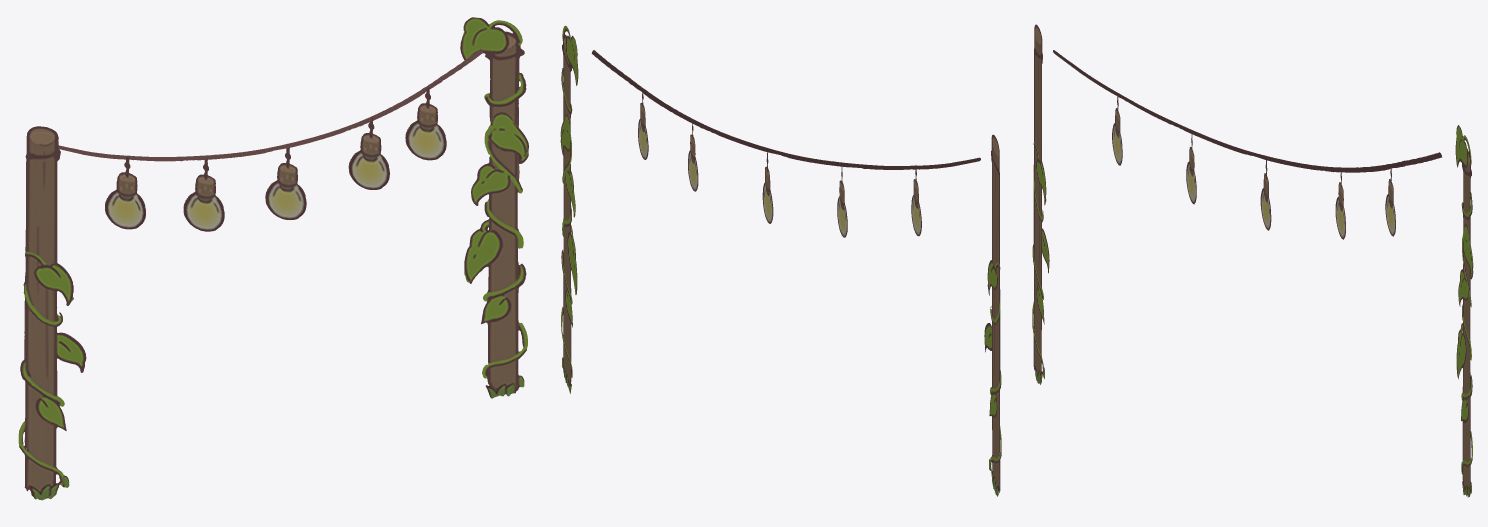
Rendered from Mesh_Home_B_Idyll_50.fbx.
3 views of the same model, side by side, from view 1: azimuth 30°, elevation 25°; view 2: azimuth 150°, elevation 25°; view 3: azimuth 330°, elevation 25° (orthographic). The views are drawn at different scales.
Visible parts, largest first — view 1: Home_B_Idyll_50; view 2: Home_B_Idyll_50; view 3: Home_B_Idyll_50.
Part boxes in pixels (<box>): Home_B_Idyll_50: <box>18,17,528,500</box>; Home_B_Idyll_50: <box>560,25,1001,496</box>; Home_B_Idyll_50: <box>1032,24,1473,497</box>.
Bounding box in the file's own units: 266 × 198 × 25.56.
1 material, 1 textured.
